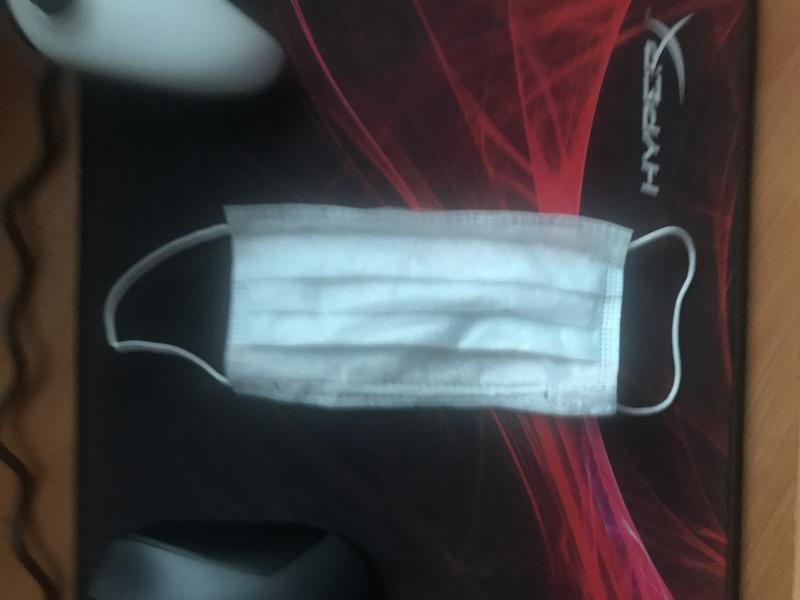medical_mask: (104, 205, 697, 419)
